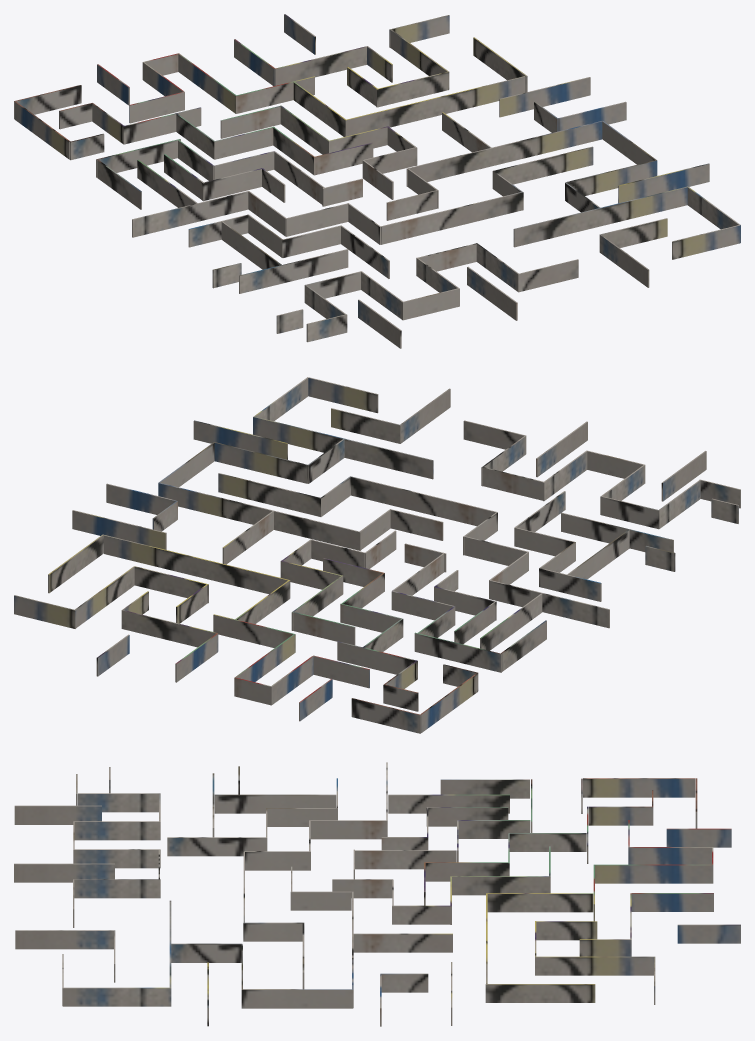
Rendered from Laberinto_Unificado.fbx.
The picture shows the model from 3 angles, top to bottom: view 1: azimuth 30°, elevation 25°; view 2: azimuth 150°, elevation 25°; view 3: azimuth 270°, elevation 25°; orthographic projection. The views are drawn at different scales.
Visible parts, largest first — view 1: Pared__28_; view 2: Pared__28_; view 3: Pared__28_.
Boxes of the visible parts, box(x1,y1,x2,y2) form: Pared__28_: box(14, 14, 740, 348); Pared__28_: box(14, 377, 740, 733); Pared__28_: box(14, 762, 740, 1026).
Size of the model in its own units: 11435 by 400 by 14271.
Materials: 1 (1 with a texture image).
